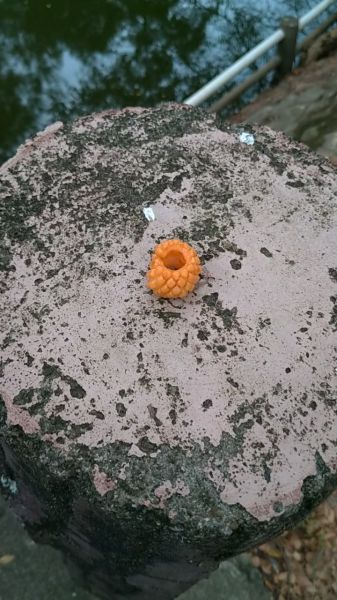eggs: (144, 234, 202, 303)
